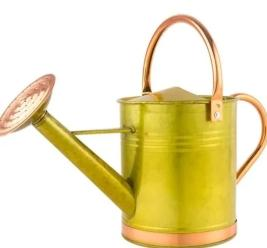ARROSOIR: (1, 0, 267, 248)
